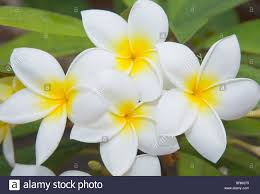frangipani: (156, 41, 260, 163)
